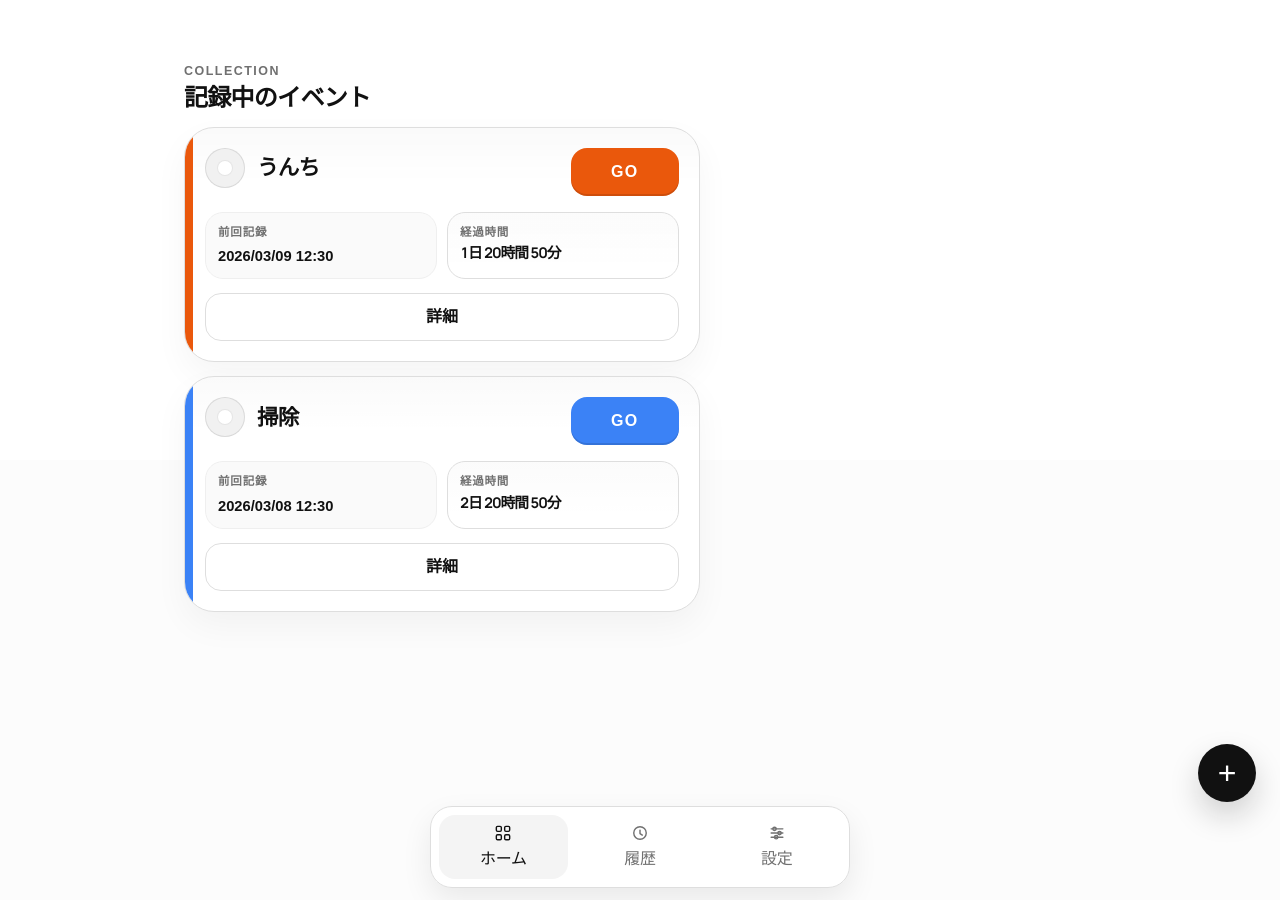
Scenario: App › shows global history entries in the history tab
What coordinates should you click on to do the following:
click the button "履歴"
I would click on:
 (640, 847)
Its box is left=576, top=815, right=704, bottom=879.
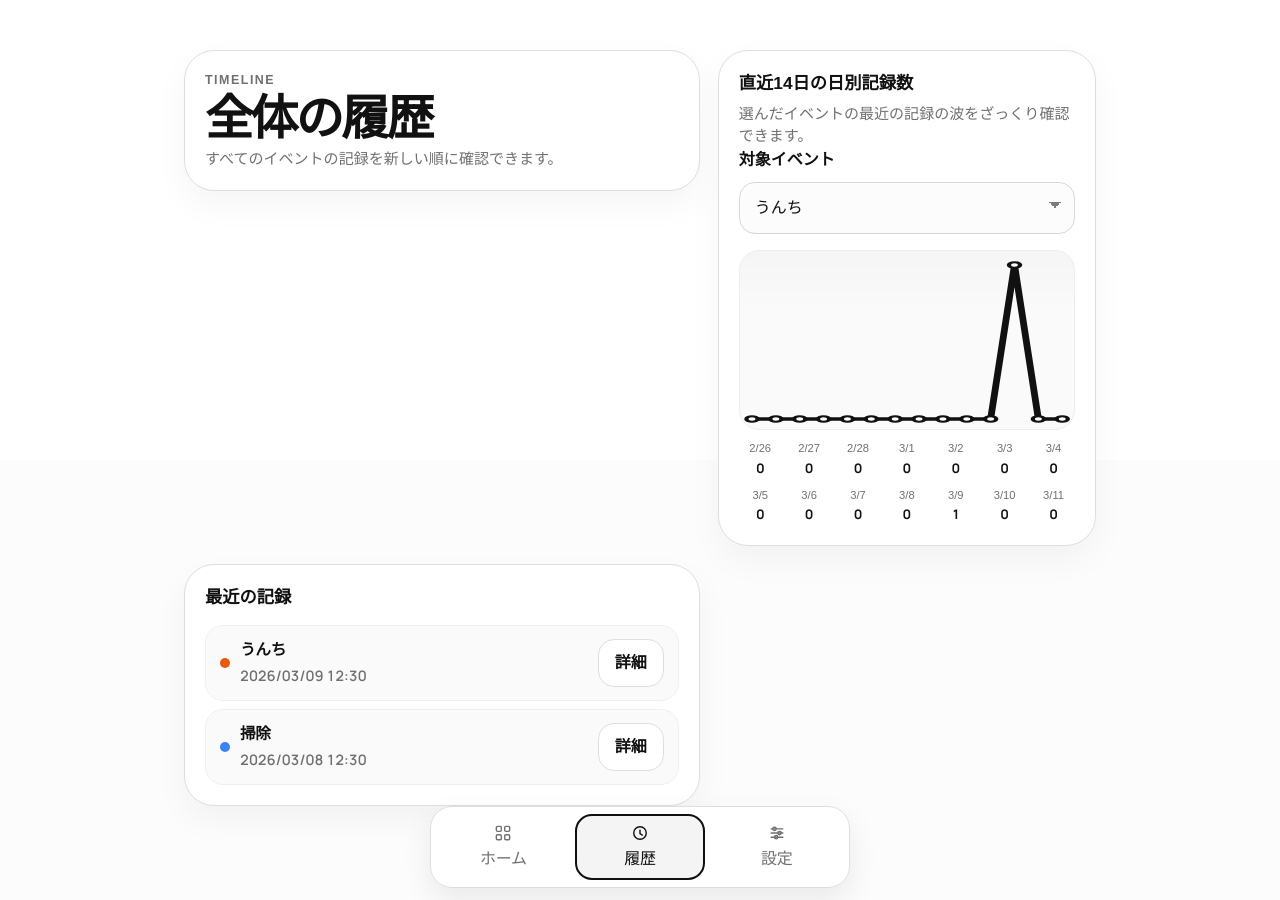
Expected: the heading "全体の履歴" is shown, left=205, top=88, right=432, bottom=149
Expected: the heading "直近14日の日別記録数" is shown, left=739, top=73, right=913, bottom=93
Expected: the picture named "直近14日の日別記録数グラフ" is shown, left=739, top=250, right=1075, bottom=430
